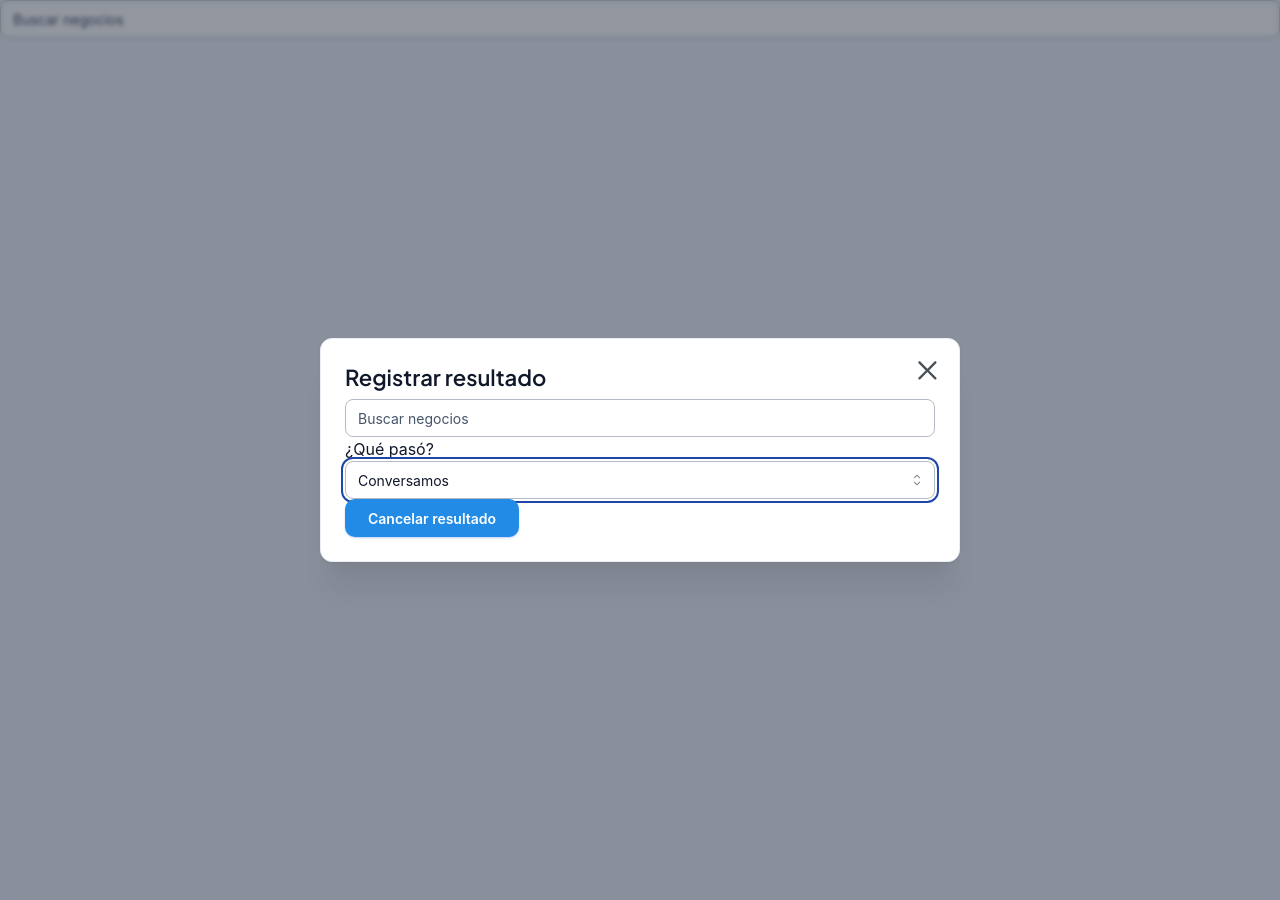
Test: Mantine migration preserves CRM interactions › focuses the requested result field and removes closed dialog controls
Click the button "Cancelar resultado".
click(432, 518)  # box [345,499,519,537]
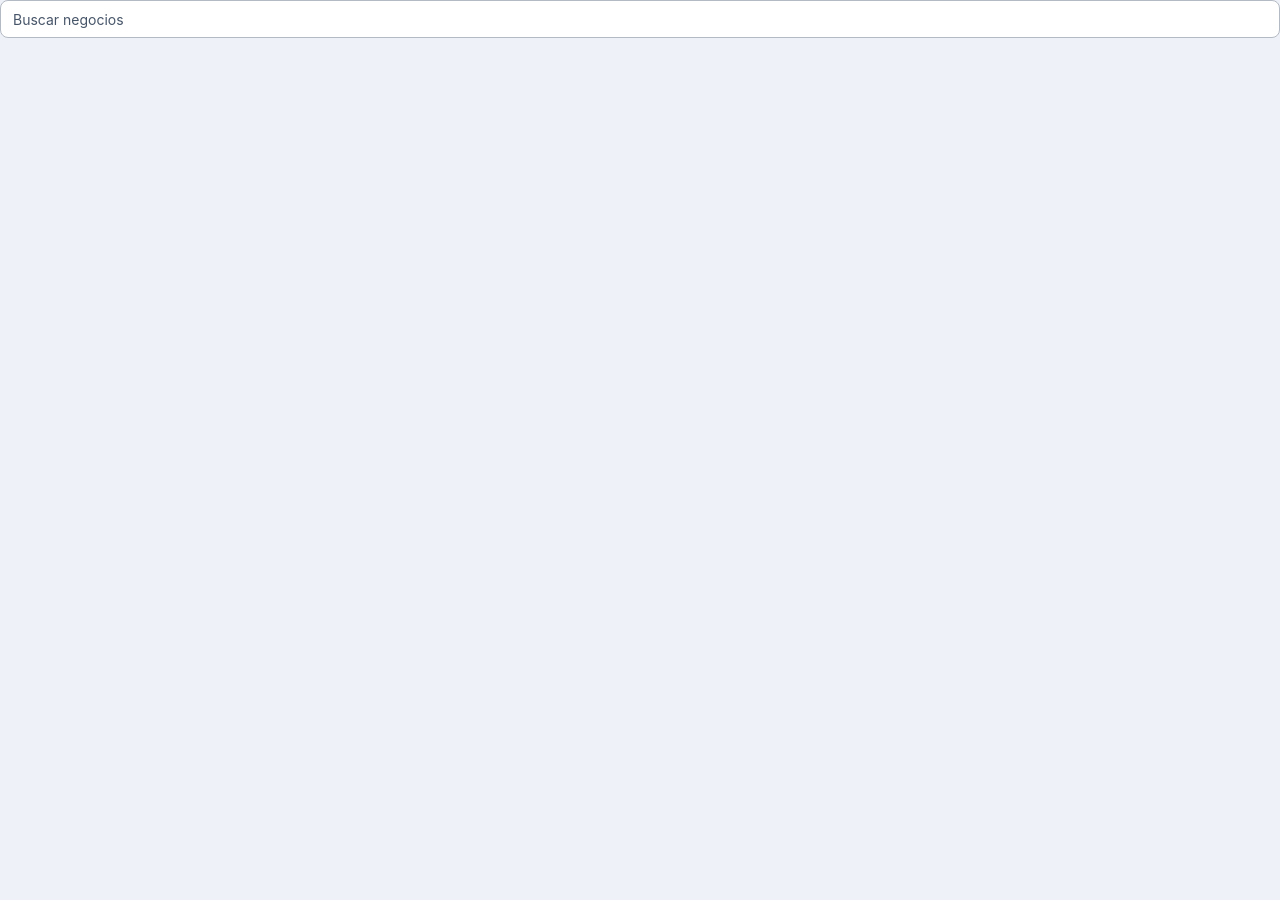
expect the dialog is gone: met
expect the number of fields with placeholder "Buscar negocios" is 1: met, box [0,0,1279,38]
